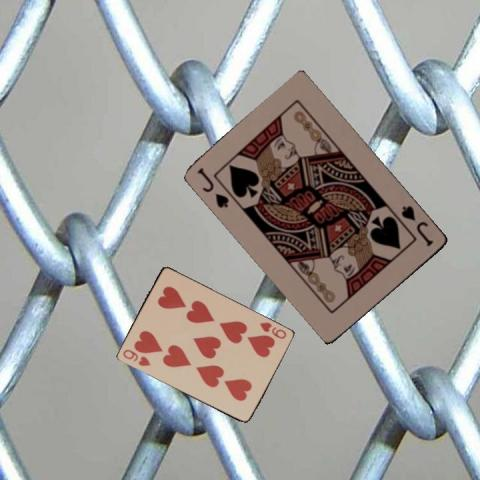9h: (256, 319, 287, 341), (120, 347, 152, 368)
Js: (194, 164, 231, 209), (399, 202, 435, 248)
